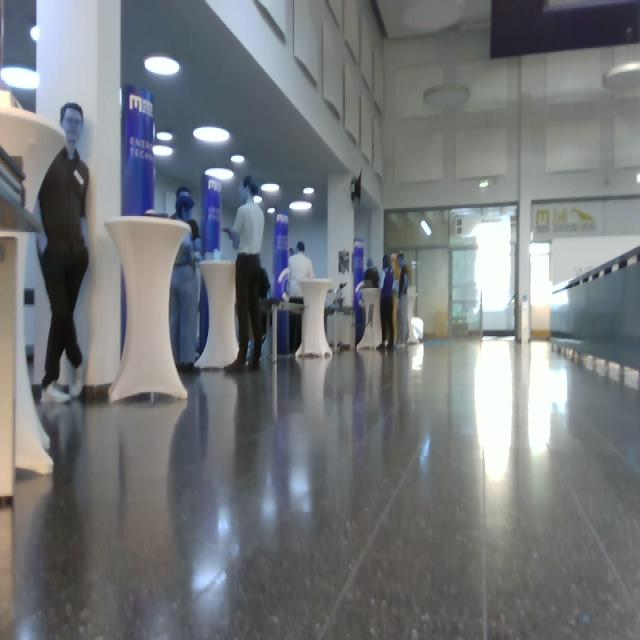light bulb: (401, 1, 465, 34), (423, 85, 471, 110), (603, 61, 640, 90), (1, 65, 40, 90), (144, 54, 180, 76), (193, 126, 230, 144), (205, 168, 234, 181), (411, 317, 424, 341), (289, 201, 313, 212), (153, 145, 173, 157), (261, 182, 280, 193), (421, 220, 432, 236), (30, 25, 40, 41), (157, 132, 173, 141), (231, 154, 245, 164), (303, 187, 315, 195), (254, 196, 263, 204), (268, 207, 276, 215)
person: (33, 103, 91, 403), (222, 174, 266, 373), (169, 192, 202, 373), (288, 241, 315, 354), (377, 255, 398, 351), (395, 252, 412, 348)
table: (103, 213, 195, 408)
tiled floor: (2, 335, 639, 639)
